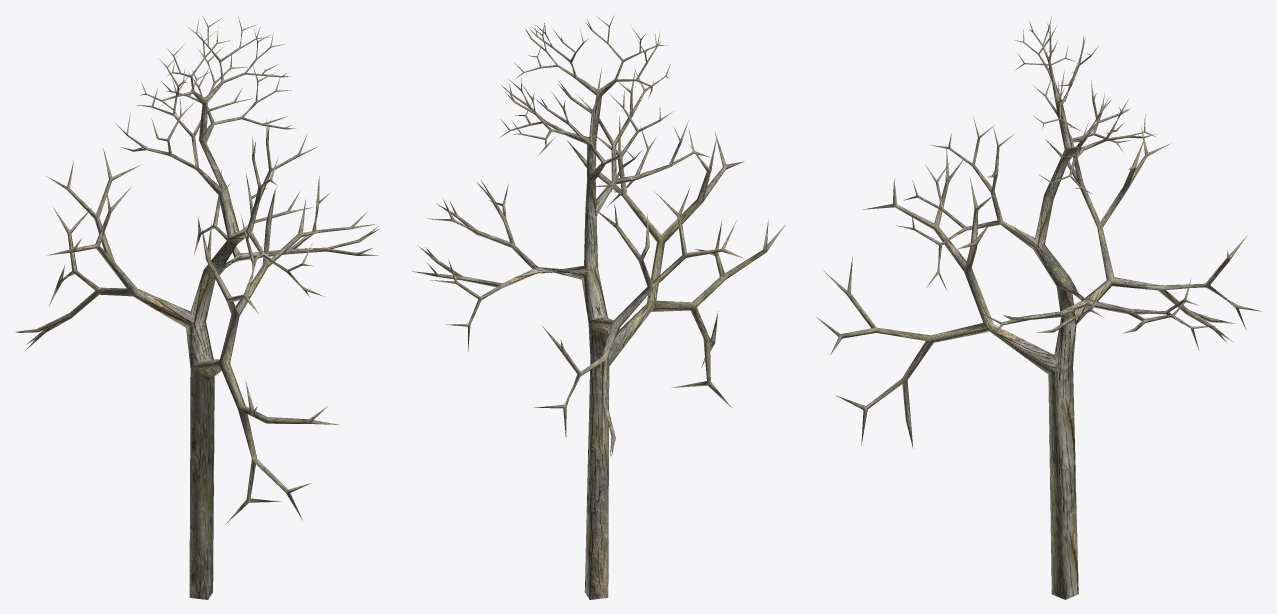
3 views of the same model, side by side, from view 1: azimuth 30°, elevation 25°; view 2: azimuth 150°, elevation 25°; view 3: azimuth 270°, elevation 25° (orthographic).
Parts seen in each view (by area): view 1: tree_015; view 2: tree_015; view 3: tree_015.
Boxes of the visible parts, bbox=[...] form: tree_015: bbox=[15, 15, 380, 599]; tree_015: bbox=[412, 16, 786, 599]; tree_015: bbox=[816, 16, 1260, 599].
Bounding box in the file's own units: 7.16 × 8.87 × 12.45.
Materials: 1 (1 with a texture image).
